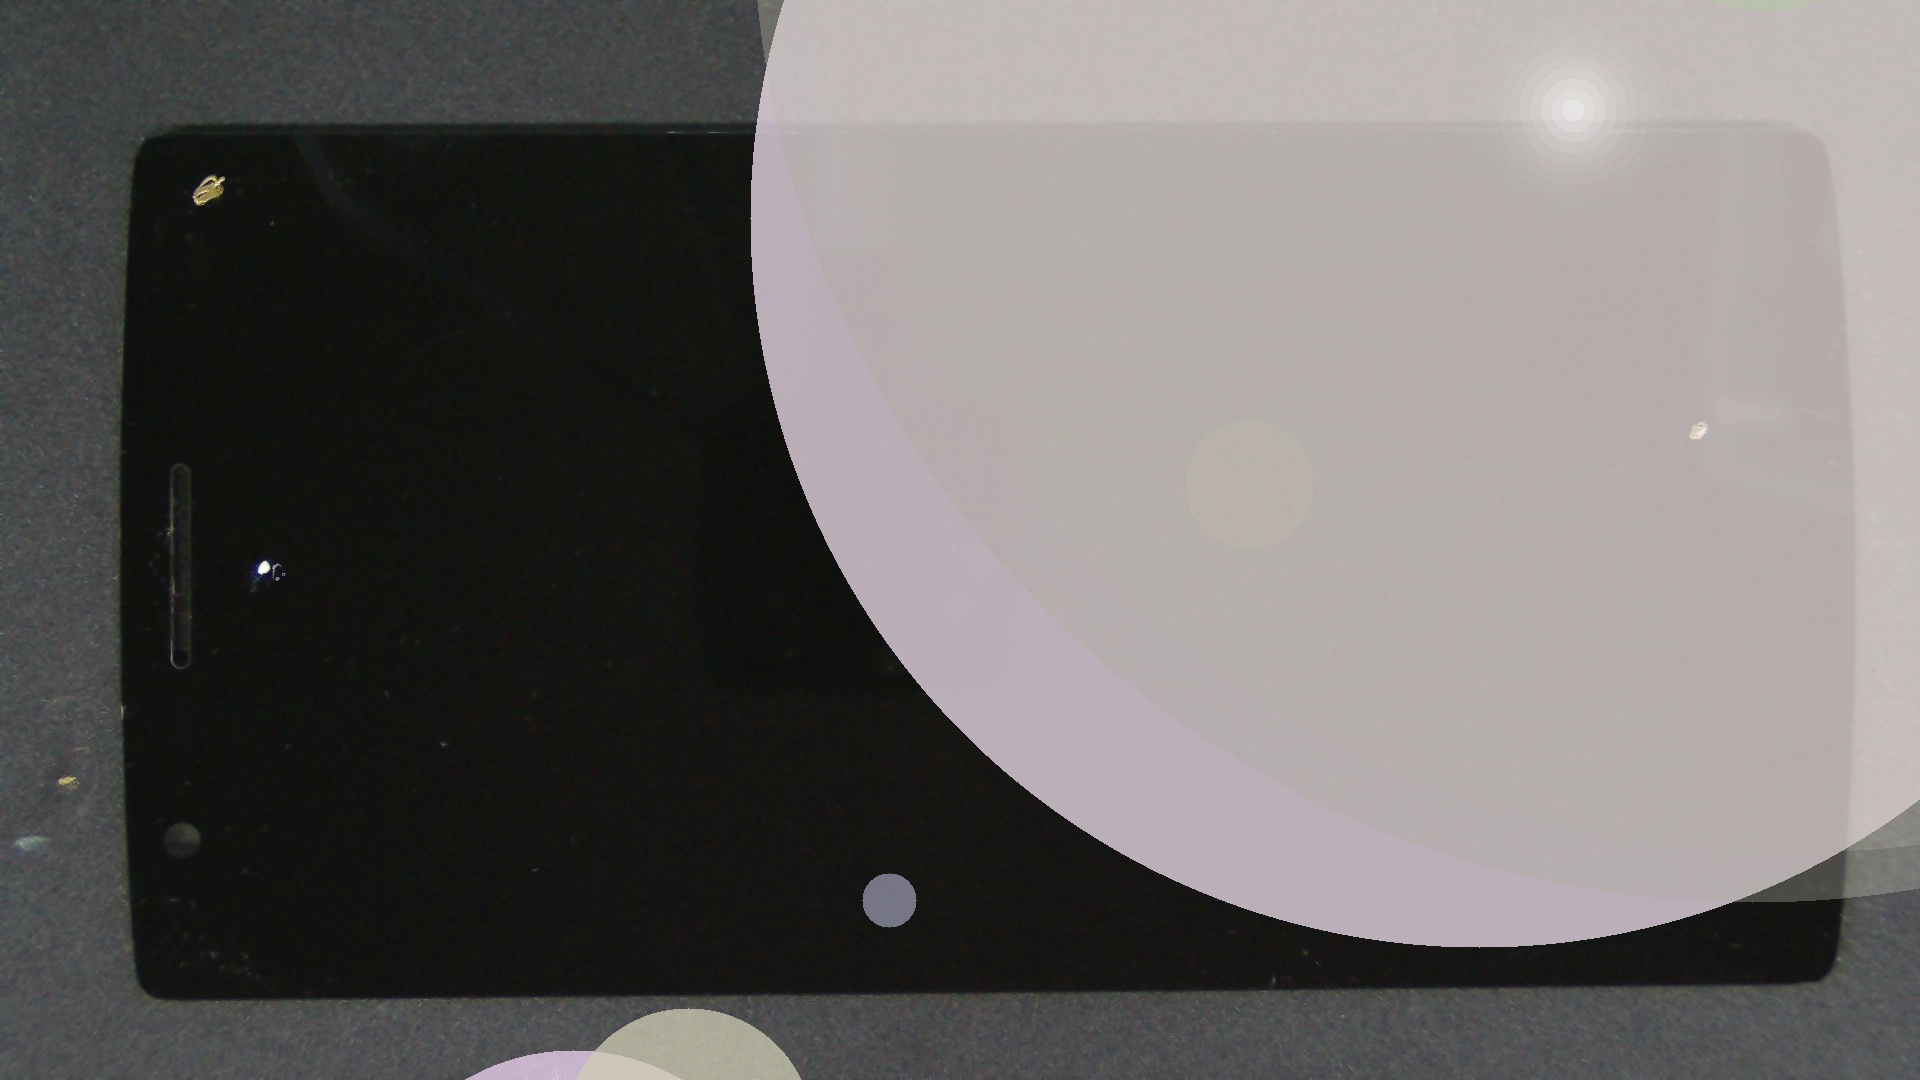oil: (851, 208, 1920, 632), (133, 277, 392, 840), (108, 86, 322, 260)
